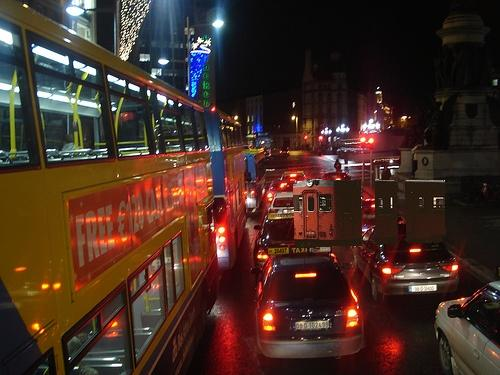tampered: (294, 180, 446, 248)
